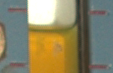border: (85, 8, 111, 18), (7, 6, 28, 14), (8, 61, 29, 68), (87, 64, 111, 70)
liquidlevel: (28, 21, 79, 36)
